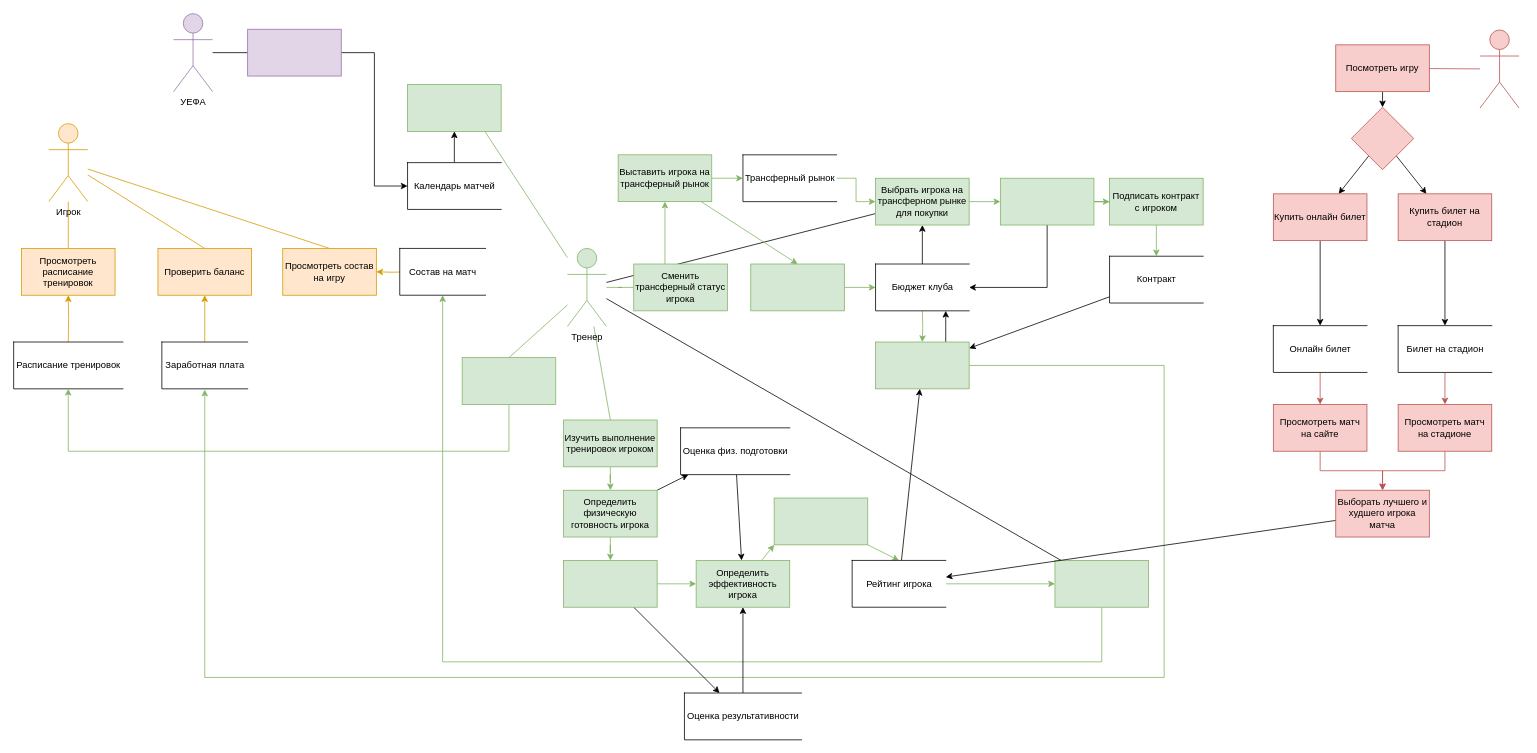
The diagram is 1537 pixels wide and 753 high, and some of its shapes have lost their labels. The shapes that lost their labels are listed below. From the top down, each one's centre as x and y in pixels, then its label:
At point (294, 52): "Составить календарь матчей".
At point (1499, 68): "Болельщик".
At point (454, 107): "Записать команду на матч".
At point (1047, 201): "Купить игрока".
At point (797, 287): "Получить средства с продажи игрока".
At point (508, 380): "Составить расписание тренировок".
At point (922, 365): "Выплатить игрокам ЗП".
At point (820, 521): "Изменить рейтинг игрока".
At point (610, 583): "Определить результативность игрока в матчах".
At point (1101, 583): "Определить состав на игру".
